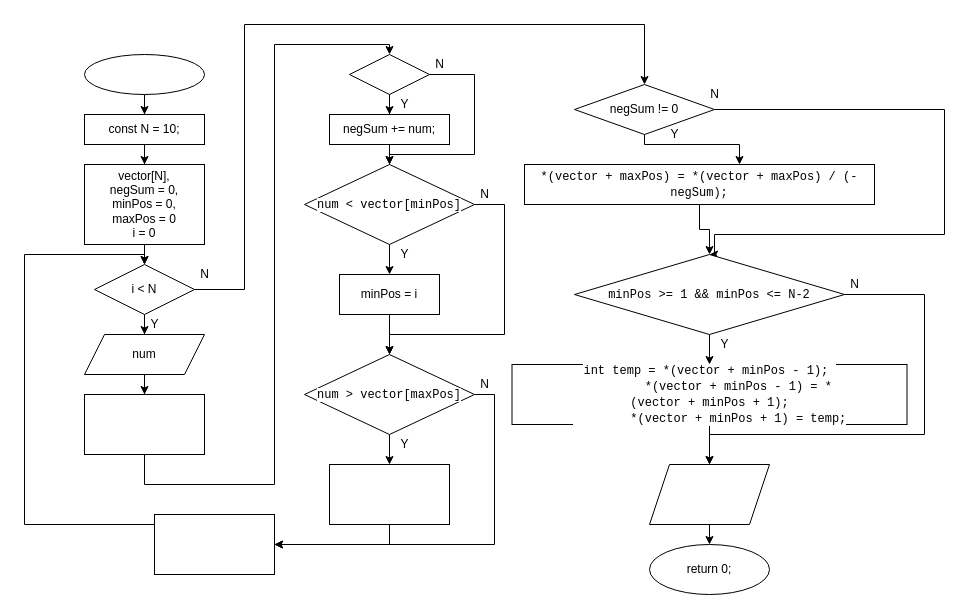
The diagram is 970 pixels wide and 612 high, and some of its shapes have lost their labels. Here are the shapes that lost their labels. From the top down, the centre of each, then its label:
At [144,74]: "int main()".
At [389,74]: "num < 0".
At [144,424]: "vector[i] = num;".
At [389,494]: "maxPos = i".
At [709,494]: "vector".
At [214,544]: "i ++;".
